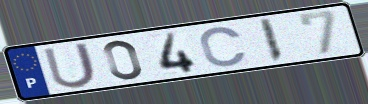0: (102, 39, 145, 81)
4: (157, 30, 199, 75)
7: (295, 7, 344, 58)
C: (198, 25, 250, 69)
I: (257, 17, 286, 64)
U: (40, 40, 99, 90)
